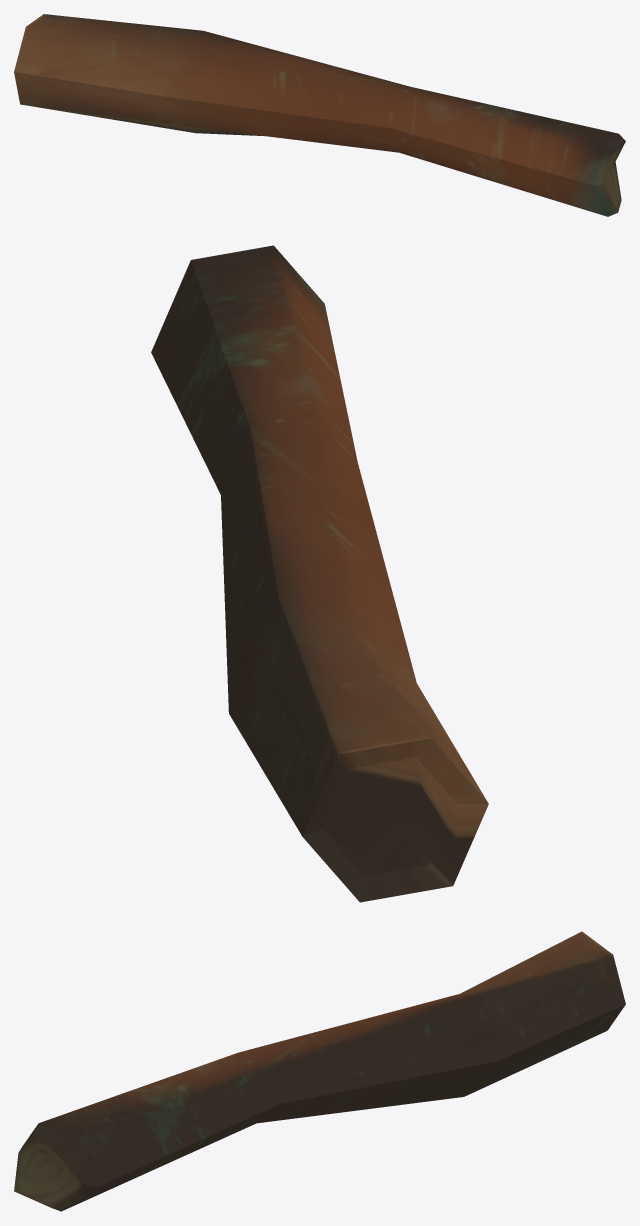
Rendered from polysurface184_fire3_lambert2_0_lev2.glb.
3 renders of one model, top to bottom at view 1: azimuth 30°, elevation 25°; view 2: azimuth 150°, elevation 25°; view 3: azimuth 270°, elevation 25°, orthographic. The views are drawn at different scales.
Visible parts, largest first — view 1: polysurface184_fire3_lambert2_0_lev2; view 2: polysurface184_fire3_lambert2_0_lev2; view 3: polysurface184_fire3_lambert2_0_lev2.
Boxes of the visible parts, <box> form: polysurface184_fire3_lambert2_0_lev2: <box>14,14,625,216</box>; polysurface184_fire3_lambert2_0_lev2: <box>151,245,488,902</box>; polysurface184_fire3_lambert2_0_lev2: <box>14,931,625,1211</box>.
Bounding box in the file's own units: 0.5749 × 0.1396 × 0.7293.
Materials: 1 (1 with a texture image).
